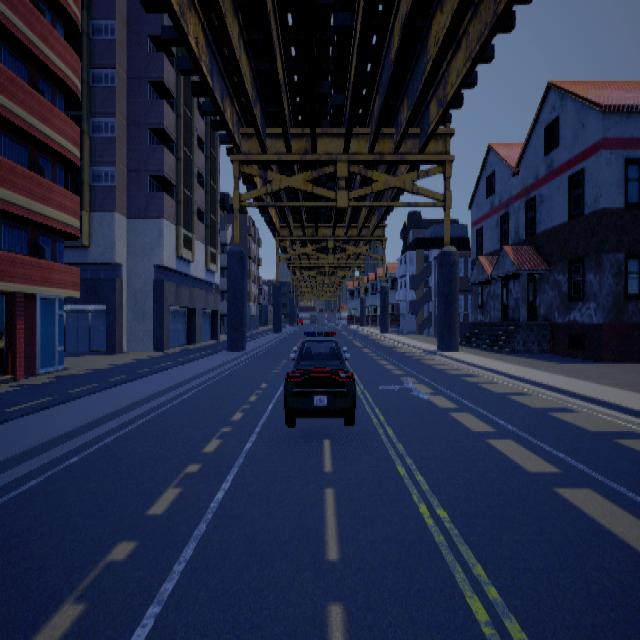vehicle: (285, 330, 357, 426)
